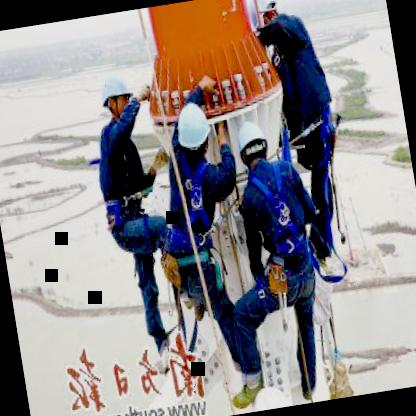helmet: (171, 95, 217, 163), (94, 70, 138, 119), (236, 122, 274, 172), (242, 0, 286, 35)
